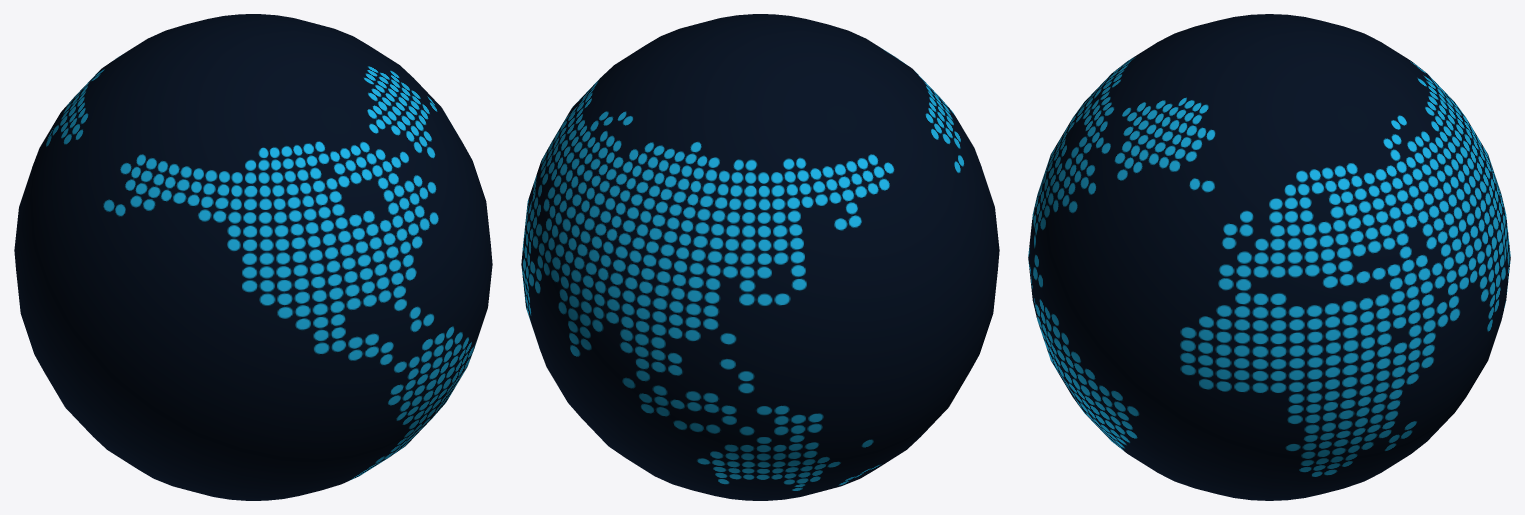
The model's file is world.glb.
3 views of the same model, side by side, from view 1: azimuth 30°, elevation 25°; view 2: azimuth 150°, elevation 25°; view 3: azimuth 270°, elevation 25° (orthographic).
Visible parts, largest first — view 1: Sphere.001; view 2: Sphere.001; view 3: Sphere.001.
Part boxes in pixels (bbox=[...]): Sphere.001: bbox=[14, 14, 492, 500]; Sphere.001: bbox=[521, 14, 999, 500]; Sphere.001: bbox=[1028, 14, 1510, 500].
Bounding box in the file's own units: 8.82 × 9.02 × 8.9.
1 material, 1 textured.
